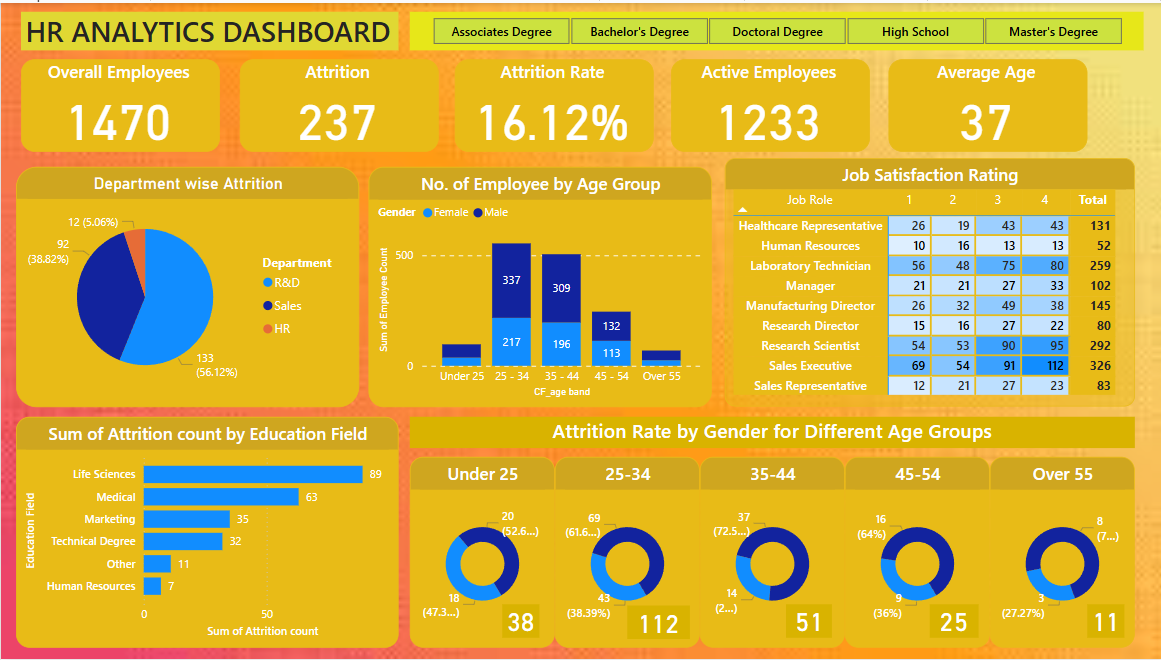

This screenshot's page, from the dashboard's own definition file:
{"tool":"powerbi","page":{"name":"Page 1","canvas":[1280,720],"ordinal":0},"visuals":[{"type":"card","title":"Overall Employees","fields":{"Values":["Sum(HR data.Employee Count)"]},"box":[22,62.1,218.2,101.5],"z":0},{"type":"card","title":"Attrition","fields":{"Values":["Sum(HR data.Attrition count)"]},"box":[262.1,62.1,218.2,101.5],"z":1000},{"type":"card","title":"Attrition Rate","fields":{"Values":["HR data.Attrition Rate"]},"box":[498.1,62.1,218.2,101.5],"z":2000},{"type":"card","title":"Active Employees","fields":{"Values":["HR data.Active Employees"]},"box":[735.5,62.1,218.2,101.5],"z":3000},{"type":"card","title":"Average Age","fields":{"Values":["Avg(HR data.Age)"]},"box":[974.3,62.1,218.2,101.5],"z":4000},{"type":"pieChart","title":"Department wise Attrition","fields":{"Category":["HR data.Department"],"Y":["Sum(HR data.Attrition count)"]},"box":[16.3,179.5,376.8,264.1],"z":5000},{"type":"columnChart","title":"No. of Employee by Age Group","fields":{"Category":["HR data.CF_age band"],"Y":["Sum(HR data.Employee Count)"],"Series":["HR data.Gender"]},"box":[403.5,179.5,376.8,264.1],"z":6000},{"type":"pivotTable","title":"Job Satisfaction Rating","fields":{"Rows":["HR data.Job Role"],"Columns":["HR data.Job Satisfaction"],"Values":["Sum(HR data.Employee Count)"]},"box":[794.5,170.2,450.1,273.1],"z":7000},{"type":"barChart","fields":{"Category":["HR data.Education Field"],"Y":["Sum(HR data.Attrition count)"]},"box":[16.3,454,419.8,253.7],"z":8000},{"type":"donutChart","title":"Under 25","fields":{"Category":["HR data.Gender"],"Y":["Sum(HR data.Attrition count)"],"Series":["HR data.CF_age band"]},"box":[448.7,498.1,159.2,209.9],"z":9000},{"type":"textbox","title":"Attrition Rate by Gender for Different Age Groups","box":[448.7,454.2,795.9,34.3],"z":10000},{"type":"donutChart","title":"25-34","fields":{"Category":["HR data.Gender"],"Y":["Sum(HR data.Attrition count)"],"Series":["HR data.CF_age band"]},"box":[607.9,498.1,159.2,209.9],"z":11000},{"type":"donutChart","title":"35-44","fields":{"Category":["HR data.Gender"],"Y":["Sum(HR data.Attrition count)"],"Series":["HR data.CF_age band"]},"box":[767.1,498.1,159.2,209.9],"z":12000},{"type":"donutChart","title":"45-54","fields":{"Category":["HR data.Gender"],"Y":["Sum(HR data.Attrition count)"],"Series":["HR data.CF_age band"]},"box":[926.2,498.1,159.2,209.9],"z":13000},{"type":"donutChart","title":"Over 55","fields":{"Category":["HR data.Gender"],"Y":["Sum(HR data.Attrition count)"],"Series":["HR data.CF_age band"]},"box":[1085.4,498.1,159.2,209.9],"z":14000},{"type":"card","fields":{"Values":["Sum(HR data.Attrition count)"]},"box":[550.3,660,41.2,37],"z":15000},{"type":"card","fields":{"Values":["Sum(HR data.Attrition count)"]},"box":[687.5,661.4,68.6,37],"z":16000},{"type":"card","fields":{"Values":["Sum(HR data.Attrition count)"]},"box":[861.8,660,50.8,37],"z":17000},{"type":"card","fields":{"Values":["Sum(HR data.Attrition count)"]},"box":[1019.6,660,53.5,37],"z":18000},{"type":"card","fields":{"Values":["Sum(HR data.Attrition count)"]},"box":[1192.5,660,41.2,37],"z":19000},{"type":"textbox","title":"HR ANALYTICS DASHBOARD","box":[22,9.6,414.4,42.5],"z":20000},{"type":"slicer","fields":{"Values":["HR data.Education"]},"box":[448.7,9.6,805.5,42.5],"z":20001}]}

Visuals, with their boxes in screenshot pixels (x1, y1, x2, y2), scaled from the page's 1280x720 canvas onto the 1161x660 screenshot:
"Overall Employees" card: bbox=[20, 57, 218, 150]
"Attrition" card: bbox=[238, 57, 436, 150]
"Attrition Rate" card: bbox=[452, 57, 650, 150]
"Active Employees" card: bbox=[667, 57, 865, 150]
"Average Age" card: bbox=[884, 57, 1082, 150]
"Department wise Attrition" pieChart: bbox=[15, 165, 357, 407]
"No. of Employee by Age Group" columnChart: bbox=[366, 165, 708, 407]
"Job Satisfaction Rating" pivotTable: bbox=[721, 156, 1129, 406]
barChart - HR data.Education Field x Sum(HR data.Attrition count): bbox=[15, 416, 396, 649]
"Under 25" donutChart: bbox=[407, 457, 551, 649]
"Attrition Rate by Gender for Different Age Groups" textbox: bbox=[407, 416, 1129, 448]
"25-34" donutChart: bbox=[551, 457, 696, 649]
"35-44" donutChart: bbox=[696, 457, 840, 649]
"45-54" donutChart: bbox=[840, 457, 984, 649]
"Over 55" donutChart: bbox=[984, 457, 1129, 649]
card - Sum(HR data.Attrition count): bbox=[499, 605, 537, 639]
card - Sum(HR data.Attrition count): bbox=[624, 606, 686, 640]
card - Sum(HR data.Attrition count): bbox=[782, 605, 828, 639]
card - Sum(HR data.Attrition count): bbox=[925, 605, 973, 639]
card - Sum(HR data.Attrition count): bbox=[1082, 605, 1119, 639]
"HR ANALYTICS DASHBOARD" textbox: bbox=[20, 9, 396, 48]
slicer - HR data.Education: bbox=[407, 9, 1138, 48]
